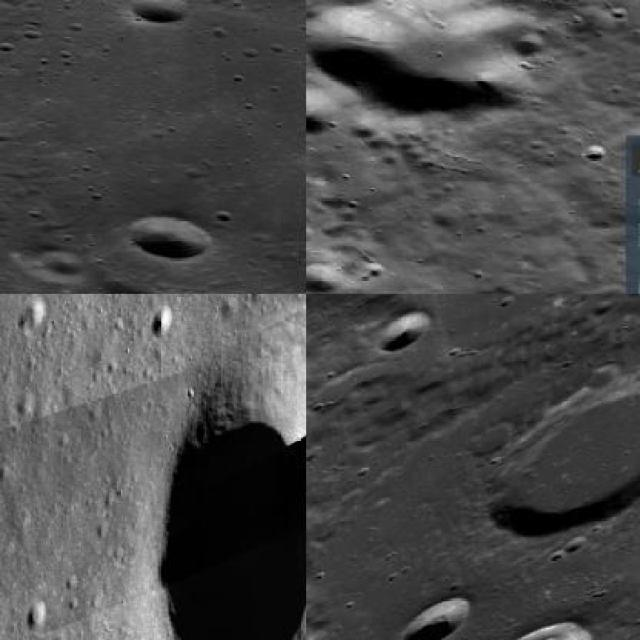crater: (158, 297, 304, 638), (306, 0, 545, 114), (488, 378, 638, 537), (126, 216, 212, 258), (401, 594, 474, 638), (377, 308, 426, 352), (306, 84, 337, 134), (126, 0, 191, 23)
